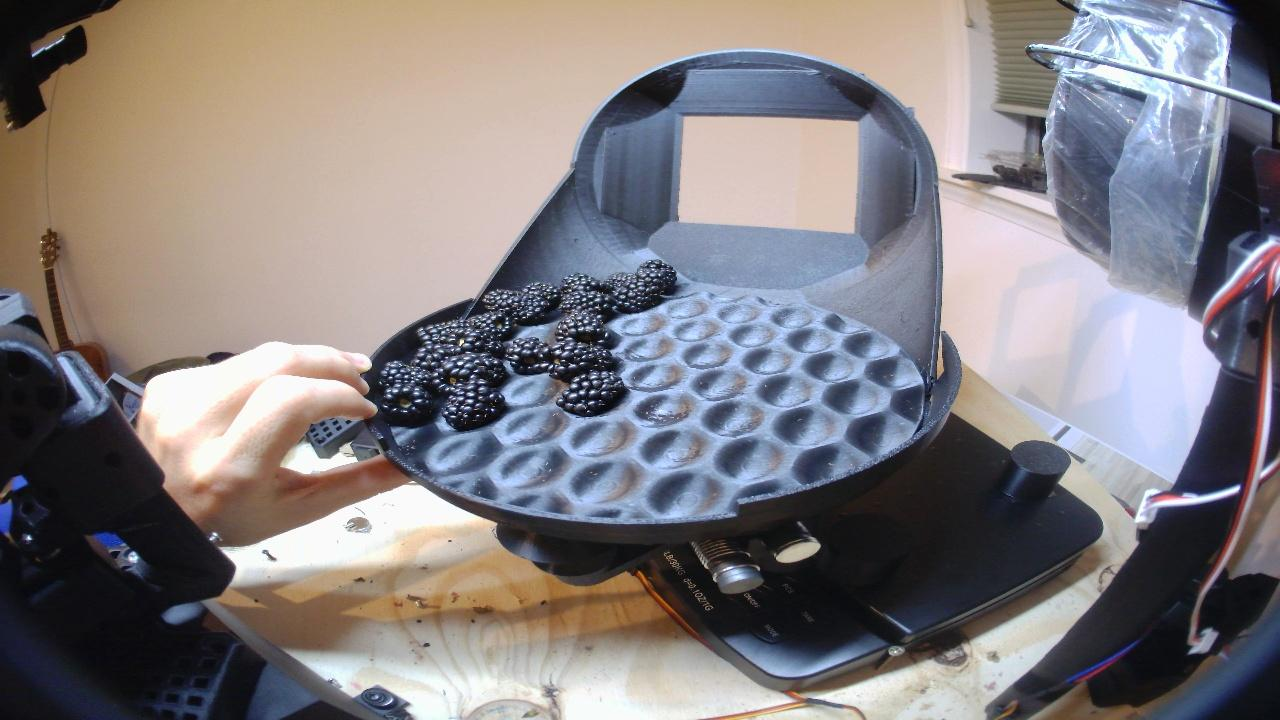berry: (556, 369, 626, 415), (442, 381, 505, 429), (433, 353, 507, 393), (549, 340, 615, 380), (481, 290, 550, 324), (610, 270, 664, 312), (380, 382, 431, 424), (555, 310, 608, 343), (504, 337, 550, 374), (380, 361, 432, 392), (561, 289, 614, 316), (464, 311, 513, 339), (412, 343, 463, 369), (452, 329, 500, 356), (637, 260, 676, 291), (415, 320, 462, 343), (560, 273, 604, 295), (524, 282, 559, 307), (603, 272, 632, 291)
